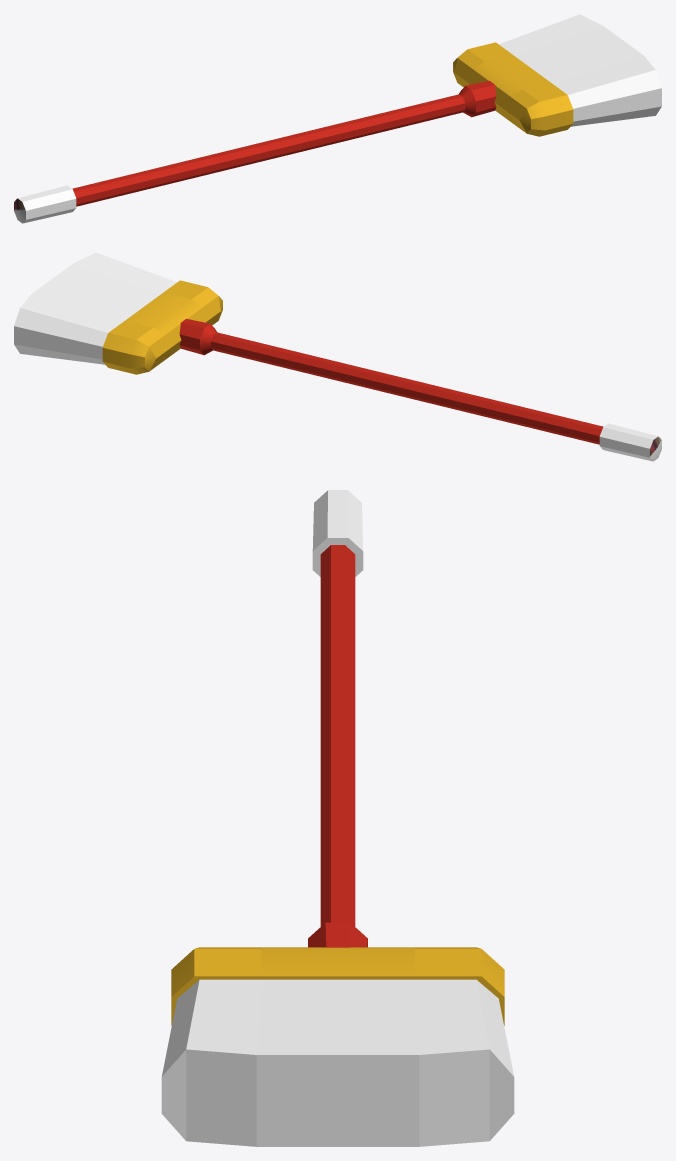
The model's file is mesh_cleaning_vroom.fbx.
3 views of the same model, one above another, from view 1: azimuth 30°, elevation 25°; view 2: azimuth 150°, elevation 25°; view 3: azimuth 270°, elevation 25° (orthographic). The views are drawn at different scales.
Visible parts, largest first — view 1: mesh_mop_01; view 2: mesh_mop_01; view 3: mesh_mop_01.
Boxes of the visible parts, x1,y1,x2,y2 form: mesh_mop_01: (14, 14, 661, 223); mesh_mop_01: (14, 252, 661, 461); mesh_mop_01: (161, 490, 514, 1146).
Bounding box in the file's own units: 41.39 × 3 × 10.44.
